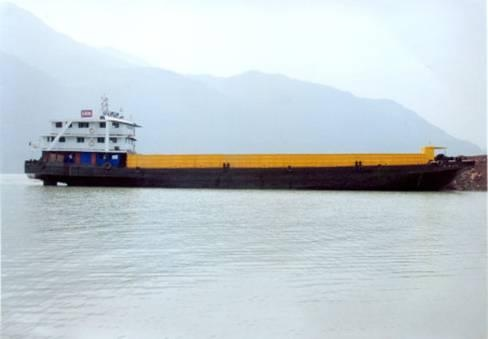Cargoship: (17, 79, 475, 188)
